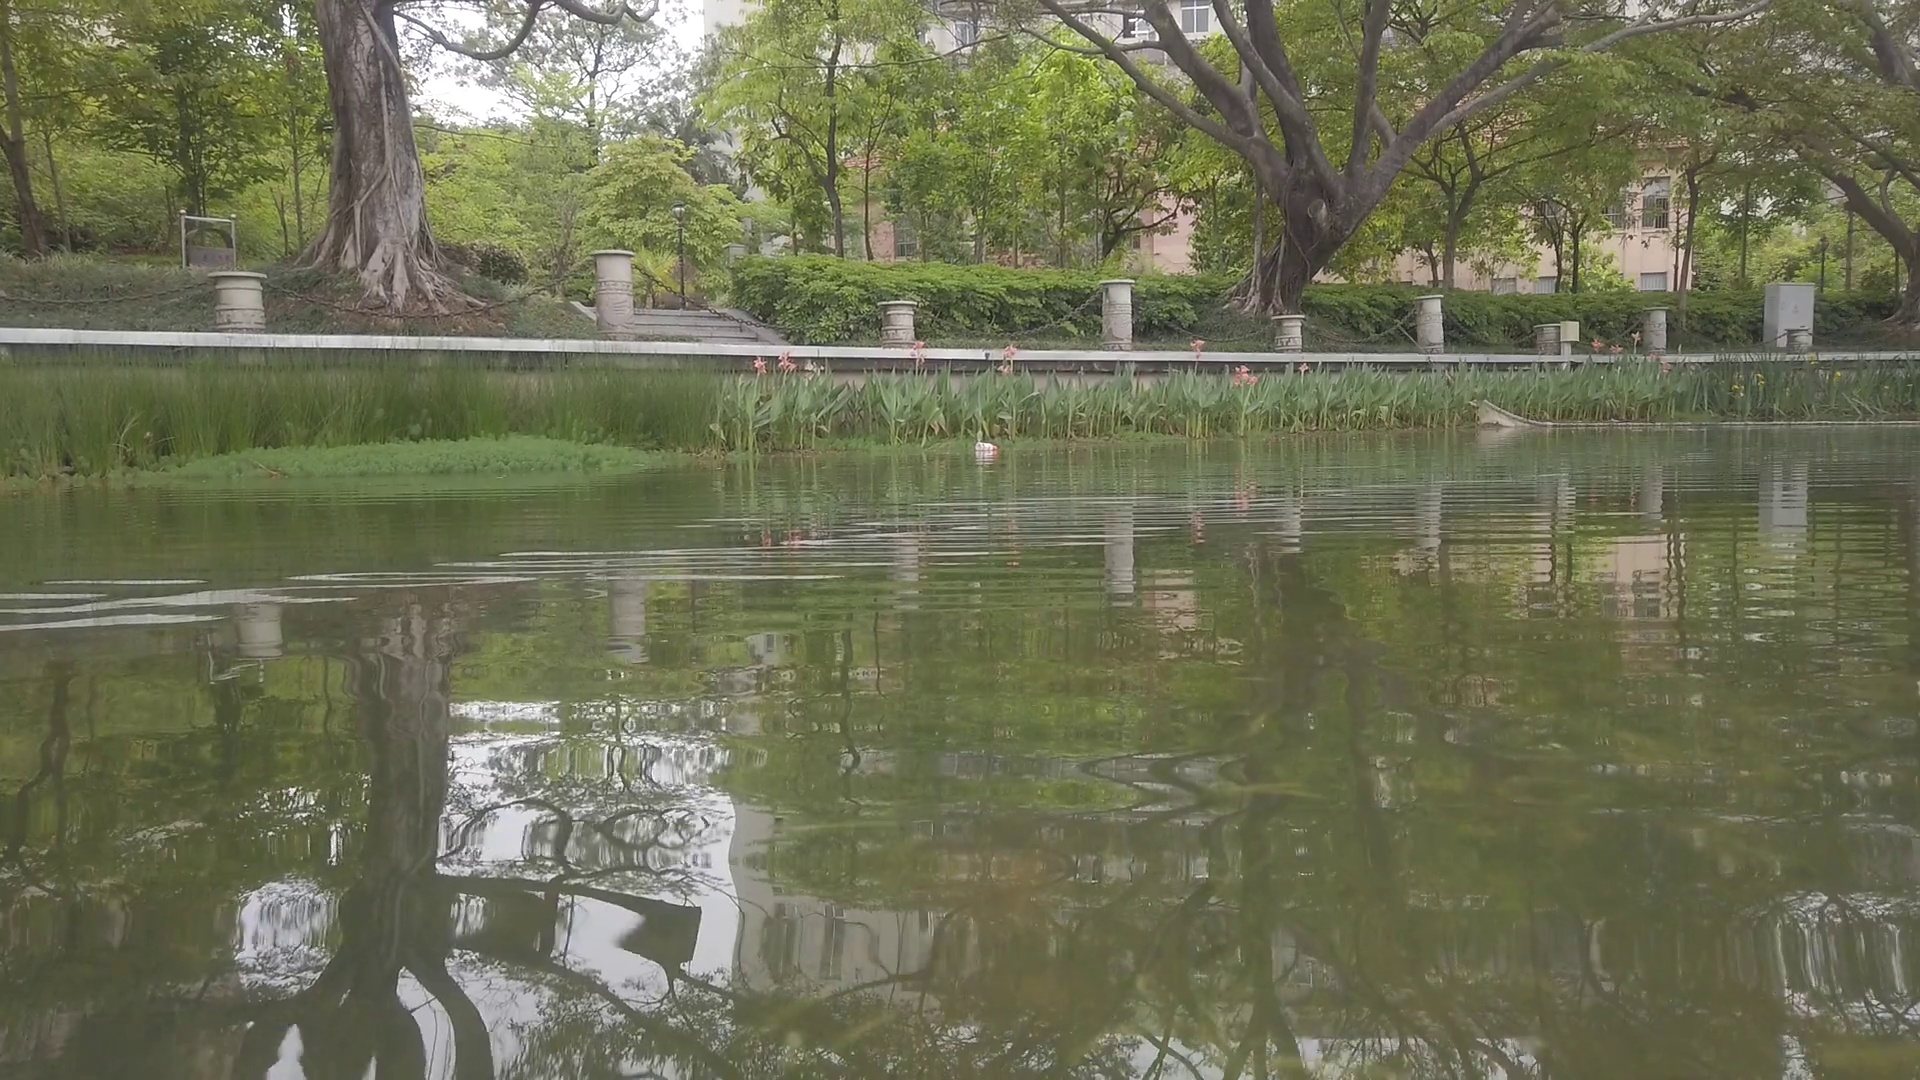bottle: (973, 440, 1000, 450)
